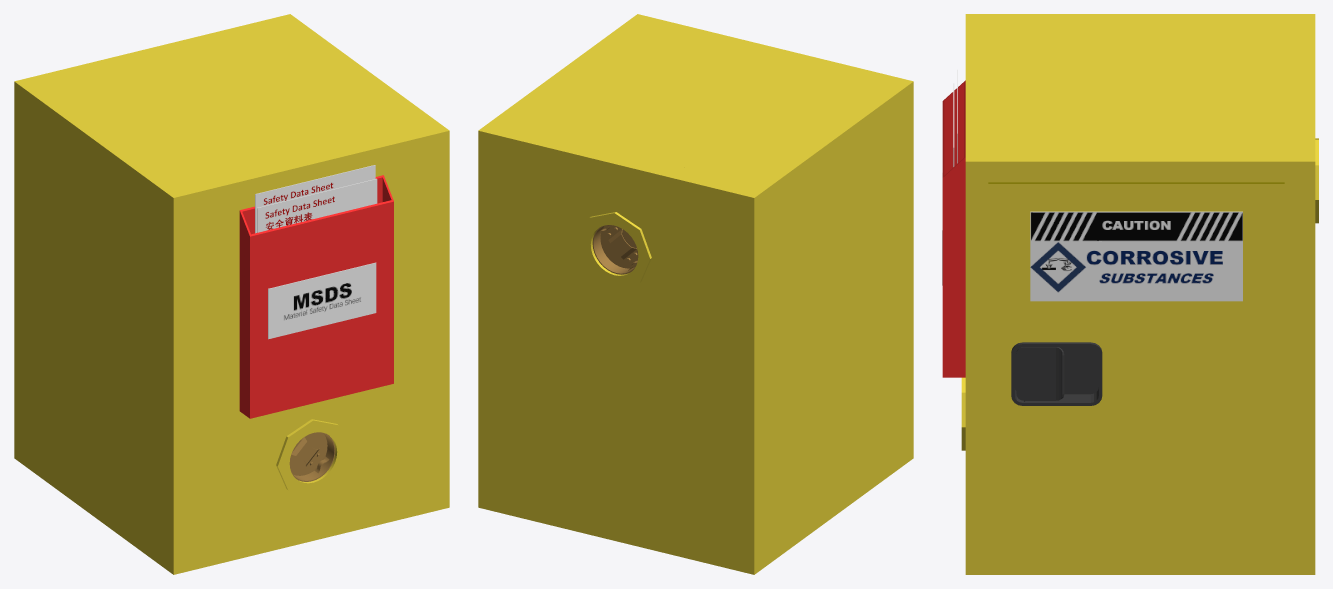
Rendered from Cabinet.fbx.
3 views of the same model, side by side, from view 1: azimuth 30°, elevation 25°; view 2: azimuth 150°, elevation 25°; view 3: azimuth 270°, elevation 25° (orthographic). The views are drawn at different scales.
Visible parts, largest first — view 1: Cabinet Box, MSDS Box, MSDS Box Indicator, MSDS Page Thinner, Cabinet VentL, MSDS Page Acetone, Cabinet VentL Barrier; view 2: Cabinet Box, Cabinet VentU, Cabinet VentU Barrier; view 3: Cabinet Box, Cabinet Door, Cabinet Caution Corrosive, MSDS Box, Cabinet Door Locker, Cabinet Door Handle, Cabinet Door Shadow.
Part boxes in pixels (bbox=[...]): Cabinet Box: bbox=[14, 14, 449, 574]; MSDS Box: bbox=[239, 175, 393, 418]; MSDS Box Indicator: bbox=[268, 262, 376, 339]; MSDS Page Thinner: bbox=[257, 178, 377, 232]; Cabinet VentL: bbox=[276, 419, 348, 494]; MSDS Page Acetone: bbox=[255, 165, 375, 233]; Cabinet VentL Barrier: bbox=[289, 432, 335, 481]; Cabinet Box: bbox=[478, 14, 913, 574]; Cabinet VentU: bbox=[579, 212, 651, 287]; Cabinet VentU Barrier: bbox=[592, 225, 638, 274]; Cabinet Box: bbox=[965, 14, 1315, 574]; Cabinet Door: bbox=[988, 184, 1284, 521]; Cabinet Caution Corrosive: bbox=[1030, 211, 1242, 301]; MSDS Box: bbox=[942, 80, 965, 377]; Cabinet Door Locker: bbox=[1011, 342, 1102, 405]; Cabinet Door Handle: bbox=[1016, 347, 1064, 401]; Cabinet Door Shadow: bbox=[988, 182, 1284, 183].
Size of the model in its own units: 49.6 by 47 by 60.
Materials: 14 (7 with a texture image).
